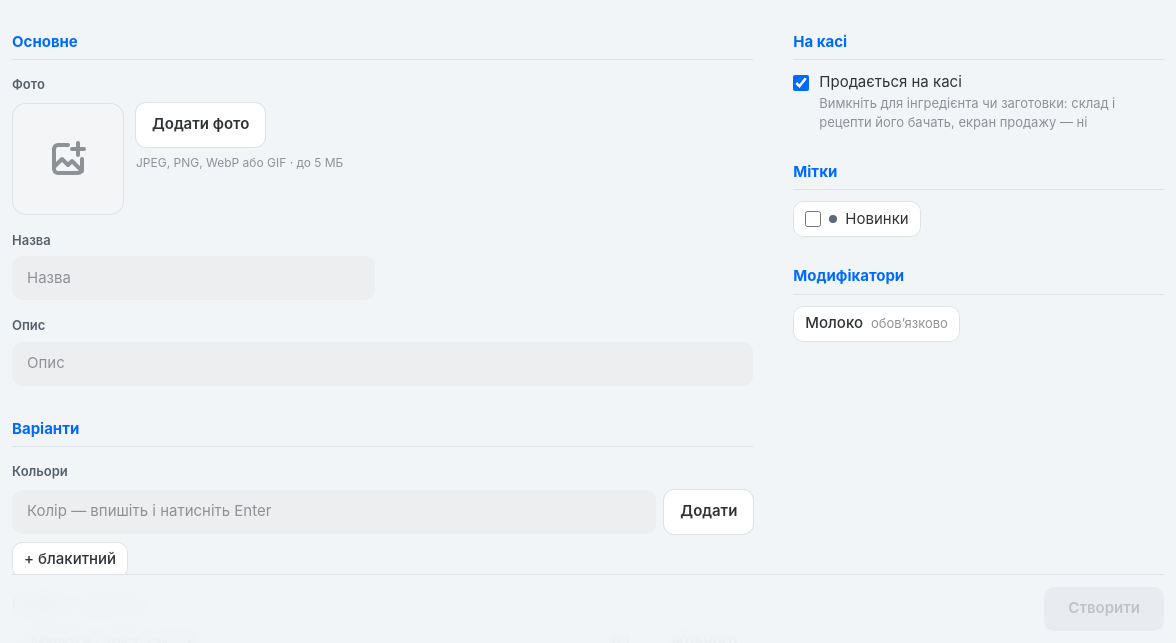
Test case: the create page — what follows the one request › opens the new card ready to edit, not stuck in «Створюємо…»
This screenshot has width=1176, height=643.
Type "Реглан" into the field with placeholder "Назва". click: (193, 278)
box: [12,256,375,300]
(page scrolled)
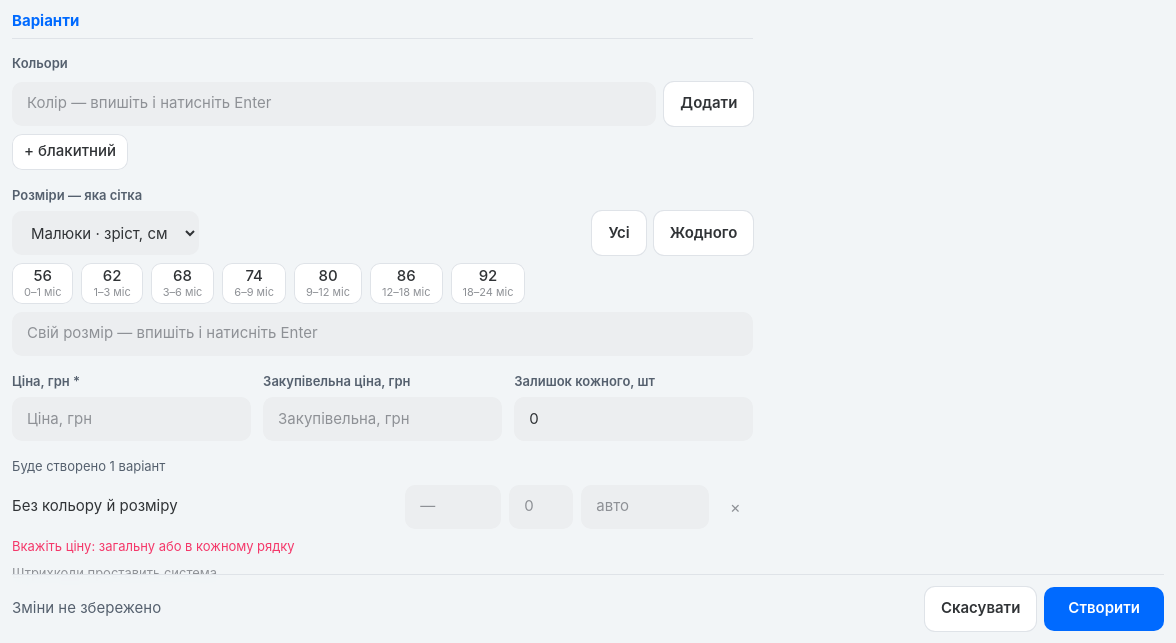
Click the button "86 12–18 міс". click: (406, 283)
box: [370,263,442,304]
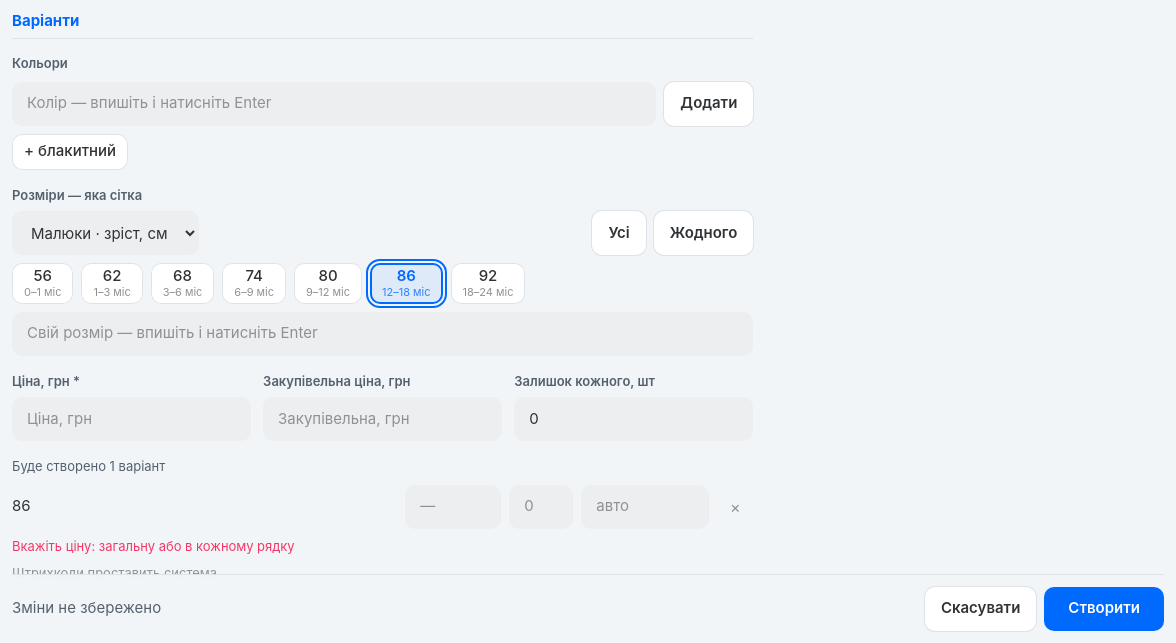
Type "350" into the field with placeholder "Ціна, грн". click: (132, 419)
box: [12,397,251,441]
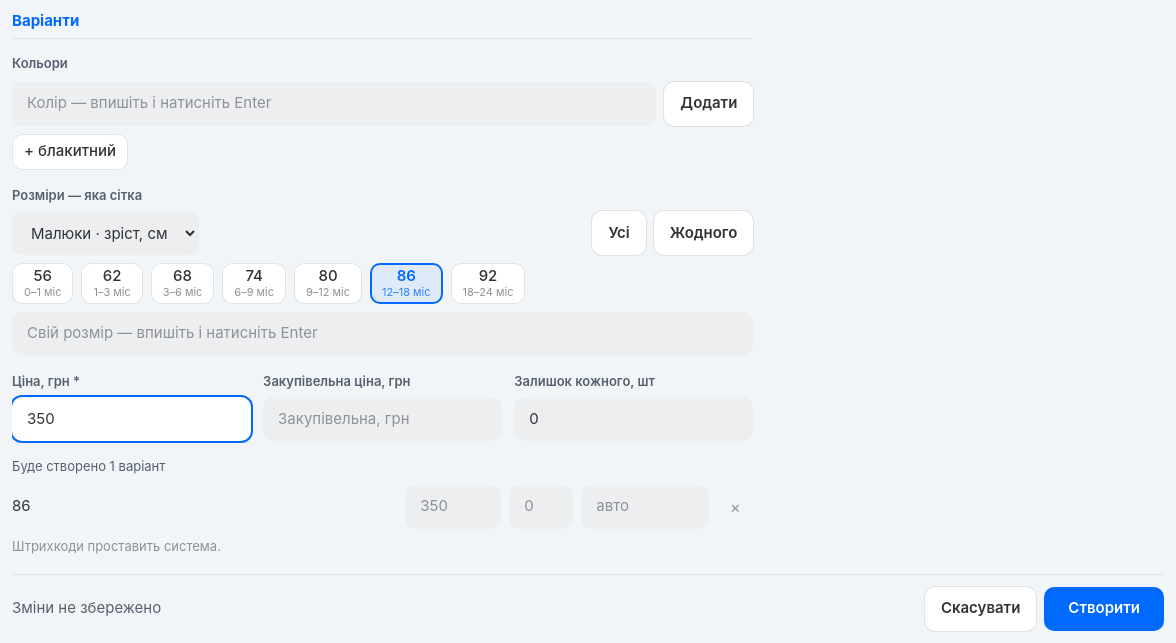
Click the button "Створити". click: (1104, 609)
box: [1044,587,1164,631]
(page scrolled)
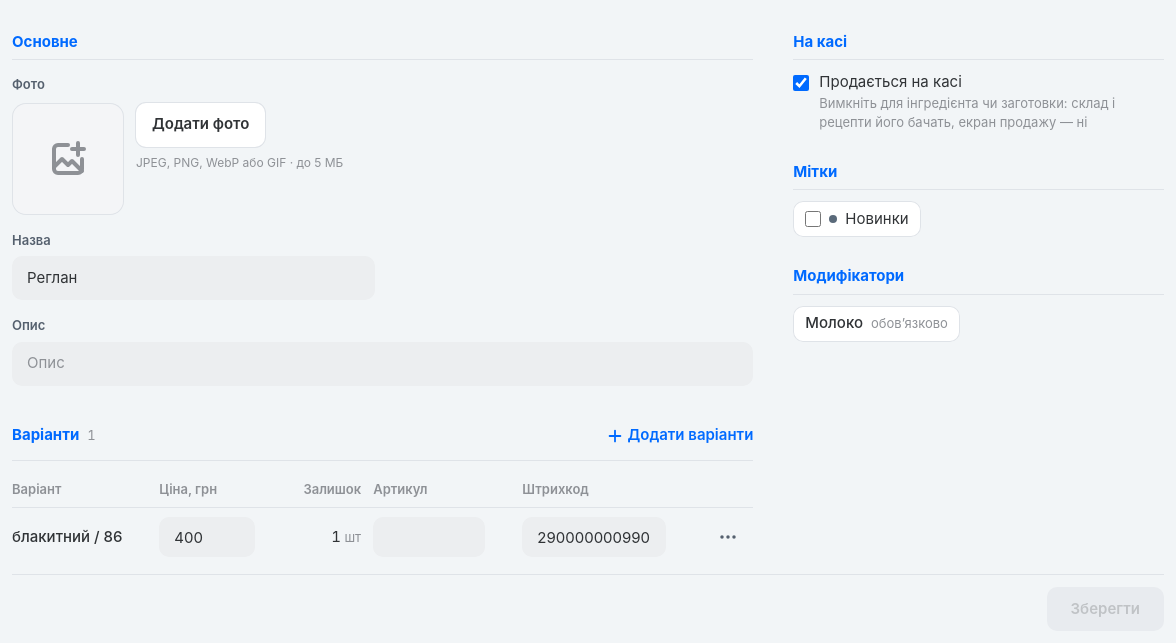
Expected: the field with placeholder "Назва" is enabled, [12,256,375,300]
Expected: the field with placeholder "Назва" holds "Реглан", [12,256,375,300]
Expected: the button "Зберегти" is disabled, [1046,587,1164,631]
